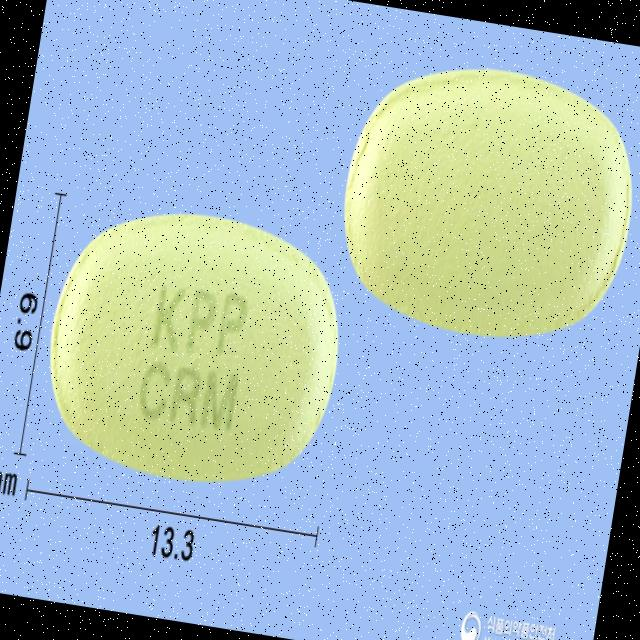Crema: (29, 194, 357, 500), (326, 48, 640, 352)
